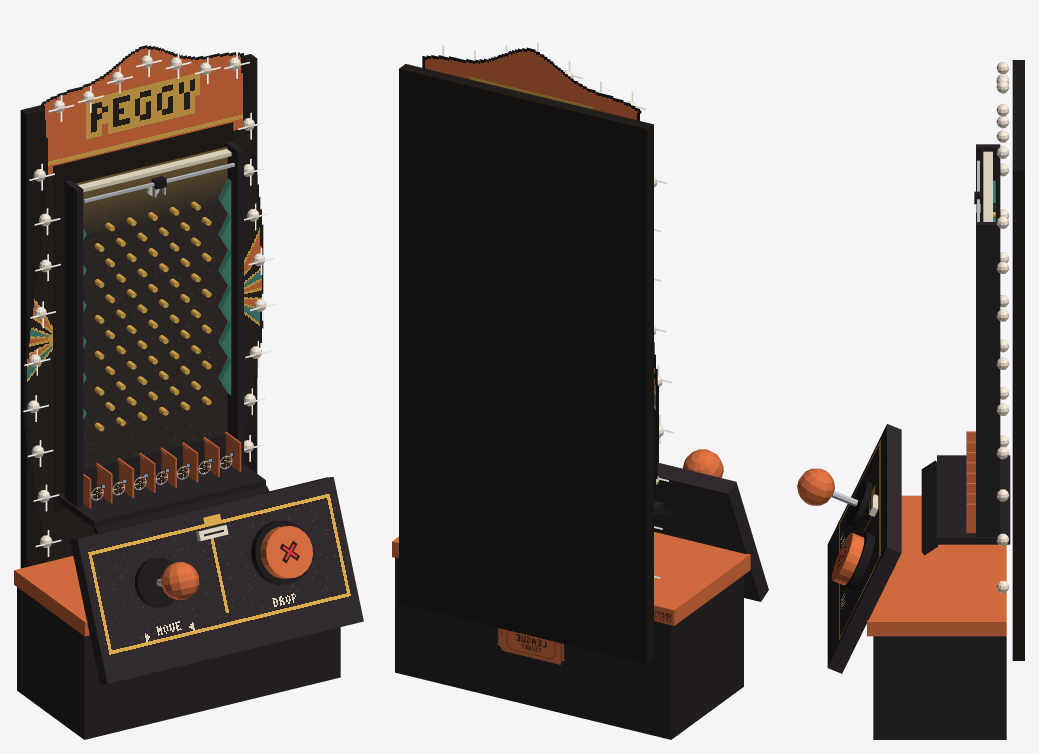
File: peggy.glb
3 views of the same model, side by side, from view 1: azimuth 30°, elevation 25°; view 2: azimuth 150°, elevation 25°; view 3: azimuth 270°, elevation 25° (orthographic). The views are drawn at different scales.
Parts seen in each view (by area): view 1: Board, Face, DeckFace, ConsoleBody, FaceBack, DeckBody, RailL, TrayFloor, RailR, ConsoleLip, Cap, BinBack (+6 smaller); view 2: FaceBack, ConsoleBody, DeckBody, Face, ConsoleLip, BigTicket, Knob; view 3: ConsoleBody, ConsoleLip, FaceBack, RailR, DeckBody, TrayFloor, DeckFace, FrontFace, Knob, Cap, RailL, Bezel (+2 smaller).
Boxes of the visible parts, x1,y1,x2,y2 form: Board: (76, 146, 227, 468); Face: (24, 45, 263, 562); DeckFace: (82, 487, 356, 661); ConsoleBody: (17, 587, 340, 739); FaceBack: (20, 54, 257, 568); DeckBody: (70, 477, 363, 684); RailL: (64, 180, 83, 506); TrayFloor: (57, 463, 265, 528); RailR: (225, 141, 243, 466); ConsoleLip: (14, 556, 89, 636); Cap: (260, 526, 312, 578); BinBack: (83, 434, 226, 494); FaceBack: (399, 64, 653, 664); ConsoleBody: (395, 555, 743, 739); DeckBody: (654, 462, 768, 601); Face: (422, 47, 658, 502); ConsoleLip: (392, 532, 750, 625); BigTicket: (497, 628, 565, 664); Knob: (682, 449, 723, 477); ConsoleBody: (873, 636, 1006, 739); ConsoleLip: (867, 495, 1006, 636); FaceBack: (1012, 60, 1024, 660); RailR: (976, 222, 1000, 536); DeckBody: (827, 424, 901, 673); TrayFloor: (937, 455, 1010, 544); DeckFace: (836, 433, 882, 647); FrontFace: (921, 460, 938, 555); Knob: (797, 468, 834, 505); Cap: (831, 532, 864, 585); RailL: (976, 144, 1000, 221); Bezel: (841, 532, 874, 593).
Size of the model in its own units: 1.22 by 2.74 by 0.9327.
Materials: 21 (6 with a texture image).
